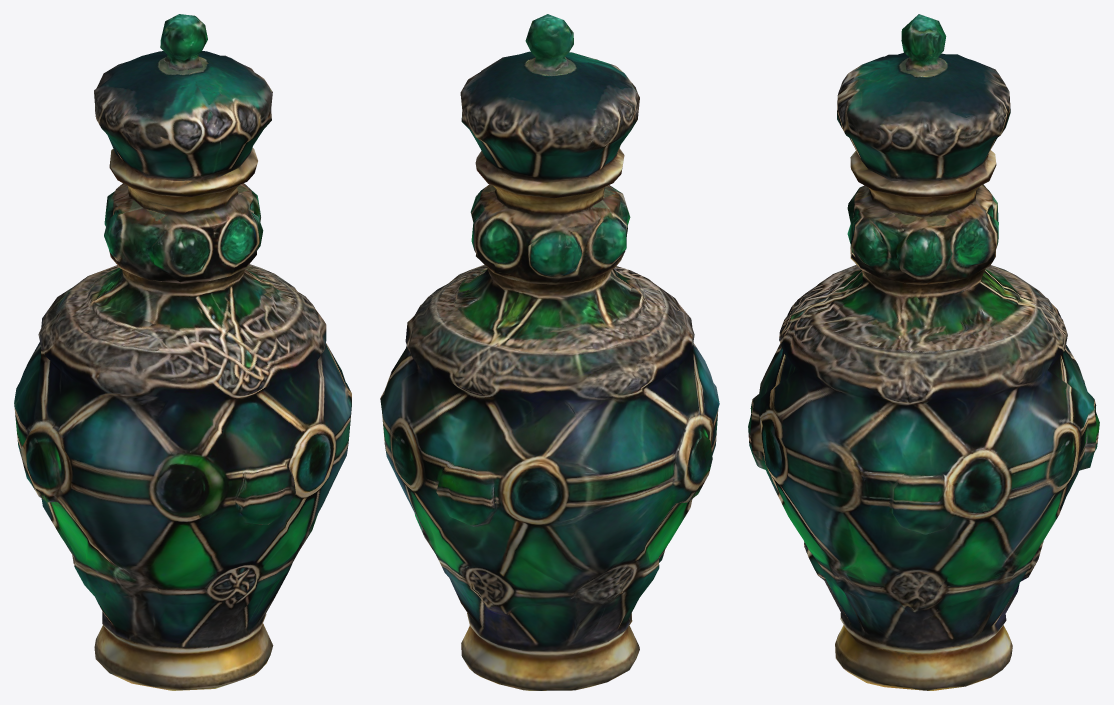
The model's file is testVialEmerald.glb.
The picture shows the model from 3 angles, left to right: view 1: azimuth 30°, elevation 25°; view 2: azimuth 150°, elevation 25°; view 3: azimuth 270°, elevation 25°; orthographic projection.
Visible parts, largest first — view 1: Mesh_0; view 2: Mesh_0; view 3: Mesh_0.
Part boxes in pixels (<box>): Mesh_0: <box>14,14,351,690</box>; Mesh_0: <box>380,14,719,690</box>; Mesh_0: <box>748,14,1099,690</box>.
Size of the model in its own units: 0.4972 by 1 by 0.5002.
1 material, 1 textured.
